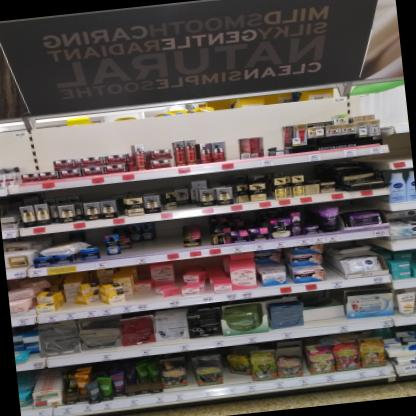empty_space: (387, 131, 412, 161), (158, 218, 180, 251), (224, 134, 240, 160)
